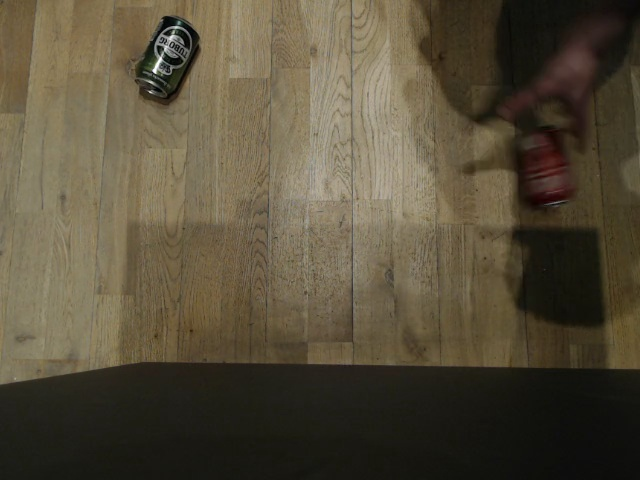beer: (132, 13, 203, 102)
cola: (511, 121, 578, 213)
